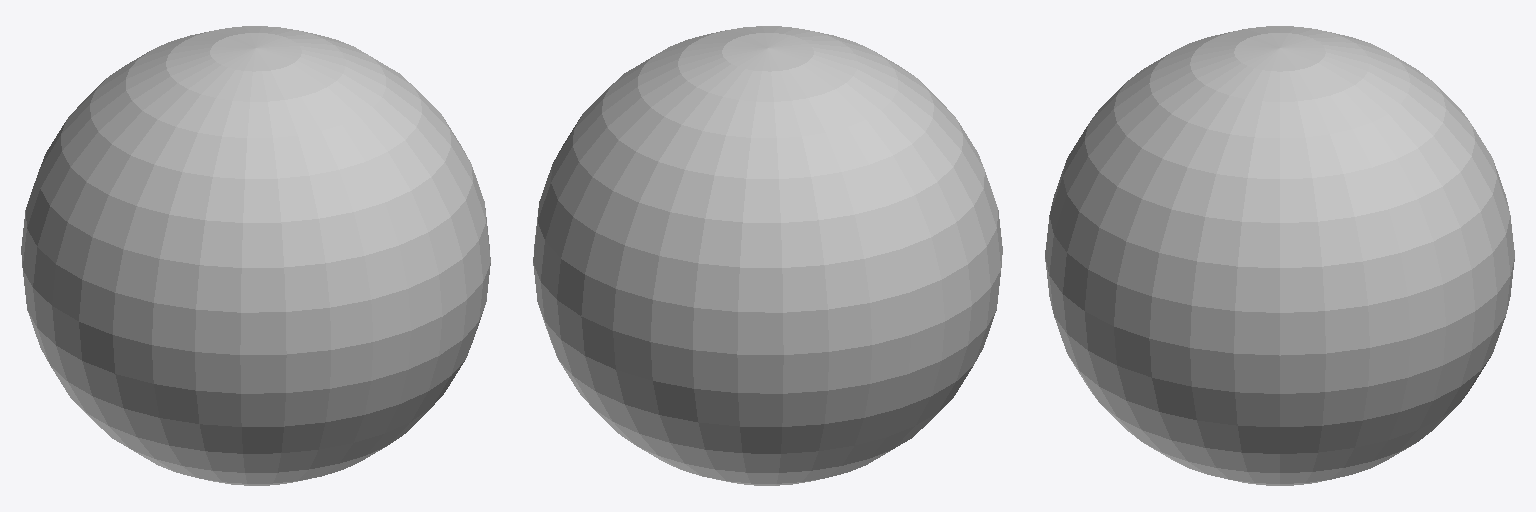
Rendered from skydome.obj.
3 views of the same model, side by side, from view 1: azimuth 30°, elevation 25°; view 2: azimuth 150°, elevation 25°; view 3: azimuth 270°, elevation 25° (orthographic).
Visible parts, largest first — view 1: 球; view 2: 球; view 3: 球.
Boxes of the visible parts, x1=… form: 球: x1=21, y1=26, x2=490, y2=485; 球: x1=533, y1=26, x2=1002, y2=485; 球: x1=1045, y1=26, x2=1514, y2=485.
Size of the model in its own units: 1161 by 1130 by 1159.